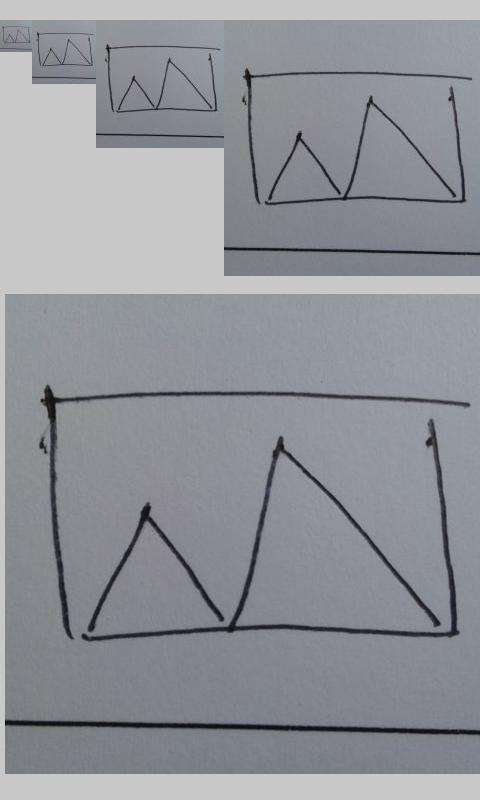image_view: (45, 389, 459, 645), (244, 70, 466, 207), (105, 44, 220, 114), (36, 31, 93, 67), (2, 25, 31, 44)
